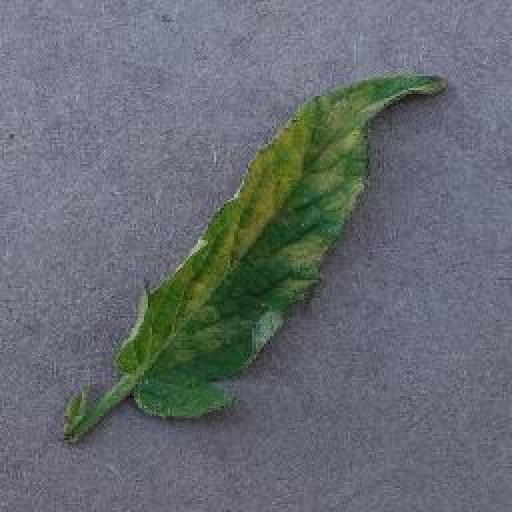disease_tomato: (114, 73, 444, 419)
